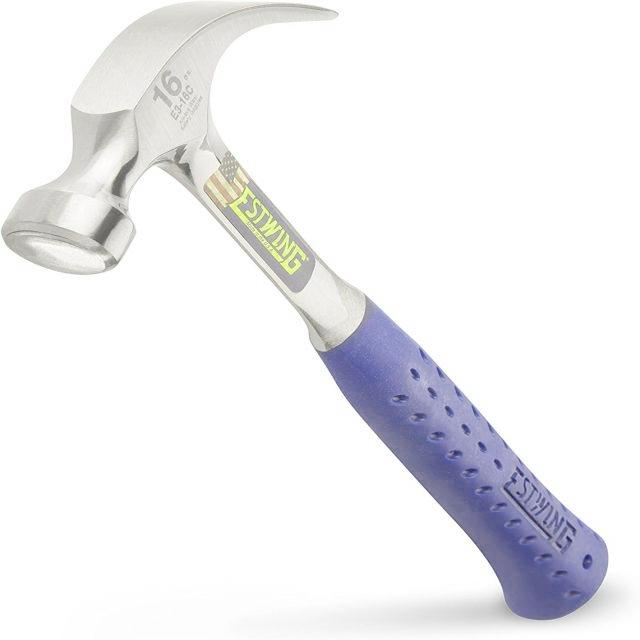hammer: (0, 0, 619, 623)
